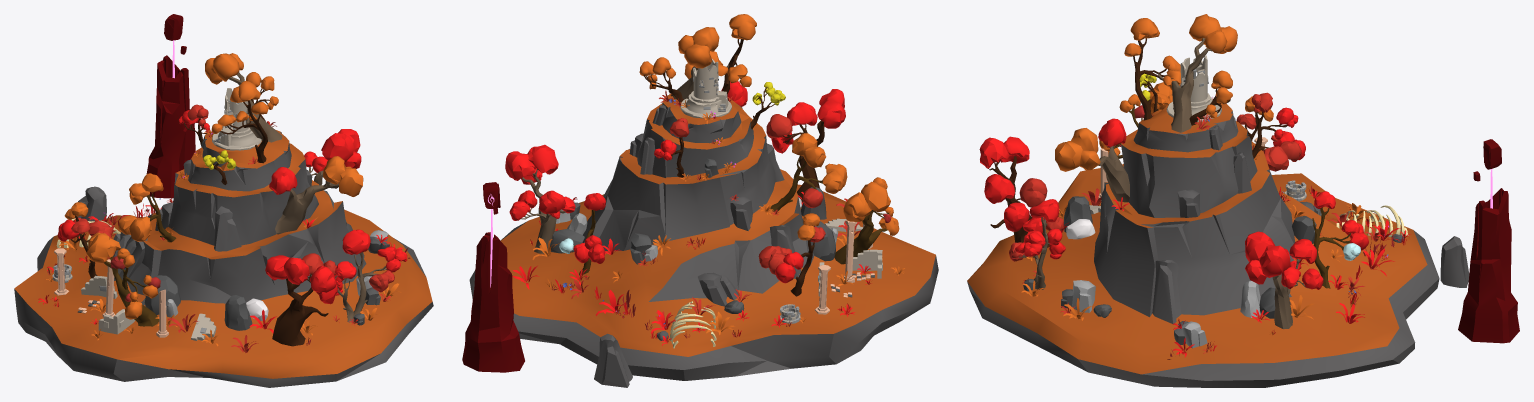
File: islands3-3hgCxhZZ.glb
3 renders of one model, left to right at view 1: azimuth 30°, elevation 25°; view 2: azimuth 150°, elevation 25°; view 3: azimuth 270°, elevation 25°, orthographic. The views are drawn at different scales.
Visible parts, largest first — view 1: Plane.014_108, Cylinder.009_94, Cube.016_14, Cube.070_68, Cylinder.002_87, Mball.005_126, Mball.112_122, Mball.021_112, Mball.004_116, Cube.076_265, Mball.001_125, Icosphere.003_96 (+22 smaller); view 2: Plane.014_108, Cylinder.009_94, Cylinder.002_87, Mball.005_126, Cube.080_270, Mball.035_2, Mball.001_125, Mball.112_122, Mball.004_116, Cube.013_11, Mball.061_167, Cube.038_39 (+18 smaller); view 3: Plane.014_108, Cylinder.009_94, Mball.005_126, Cube.077_266, Mball.021_112, Cube.015_81, Mball.001_125, Cube.080_270, Mball.004_116, Cylinder.002_87, Mball.112_122, Cube.070_68 (+21 smaller).
Part boxes in pixels (x1,y1,x2,y2): Plane.014_108: [14, 130, 433, 387]; Cylinder.009_94: [146, 55, 195, 198]; Cube.016_14: [272, 276, 328, 346]; Cube.070_68: [275, 181, 338, 234]; Cylinder.002_87: [212, 88, 261, 150]; Mball.005_126: [321, 129, 361, 168]; Mball.112_122: [211, 81, 268, 133]; Mball.021_112: [323, 156, 363, 196]; Mball.004_116: [265, 255, 309, 284]; Cube.076_265: [214, 206, 241, 251]; Mball.001_125: [205, 53, 243, 84]; Icosphere.003_96: [224, 295, 252, 330]; Plane.014_108: [469, 91, 938, 380]; Cylinder.009_94: [462, 232, 524, 372]; Cylinder.002_87: [680, 59, 731, 118]; Mball.005_126: [505, 144, 558, 184]; Cube.080_270: [594, 333, 632, 387]; Mball.035_2: [843, 181, 890, 221]; Mball.001_125: [678, 27, 719, 68]; Mball.112_122: [718, 14, 756, 87]; Mball.004_116: [817, 89, 845, 128]; Cube.013_11: [834, 210, 887, 264]; Mball.061_167: [792, 133, 826, 167]; Cube.038_39: [522, 169, 565, 253]; Plane.014_108: [967, 99, 1439, 387]; Cylinder.009_94: [1458, 188, 1519, 343]; Mball.005_126: [1245, 231, 1290, 284]; Cube.077_266: [1152, 260, 1181, 323]; Mball.021_112: [1055, 128, 1100, 171]; Cube.015_81: [1158, 38, 1212, 132]; Mball.001_125: [1189, 14, 1237, 53]; Cube.080_270: [1440, 236, 1469, 287]; Mball.004_116: [979, 136, 1029, 168]; Cylinder.002_87: [1166, 55, 1221, 122]; Mball.112_122: [1124, 18, 1181, 86]; Cube.070_68: [1098, 145, 1129, 202].
Size of the model in its own units: 142 by 94.32 by 165.
